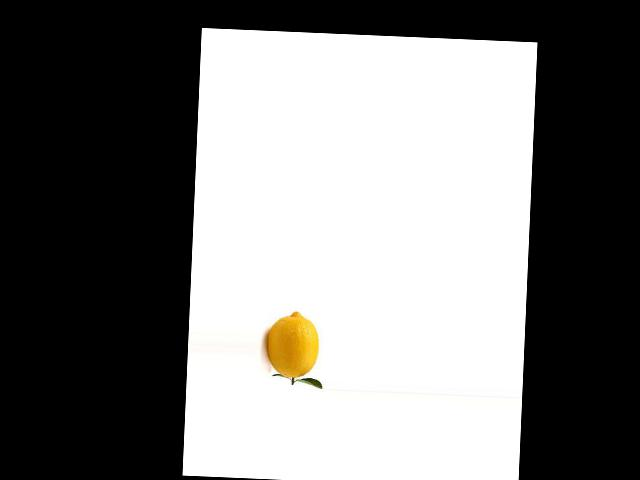lemon: (260, 304, 323, 381)
